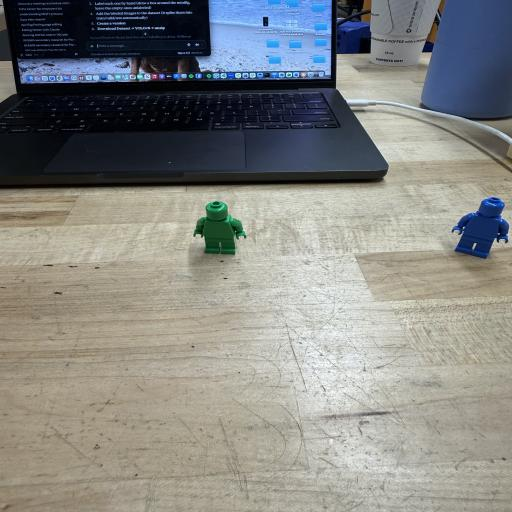blue-minifig: (452, 197, 509, 258)
green-minifig: (193, 201, 246, 254)
